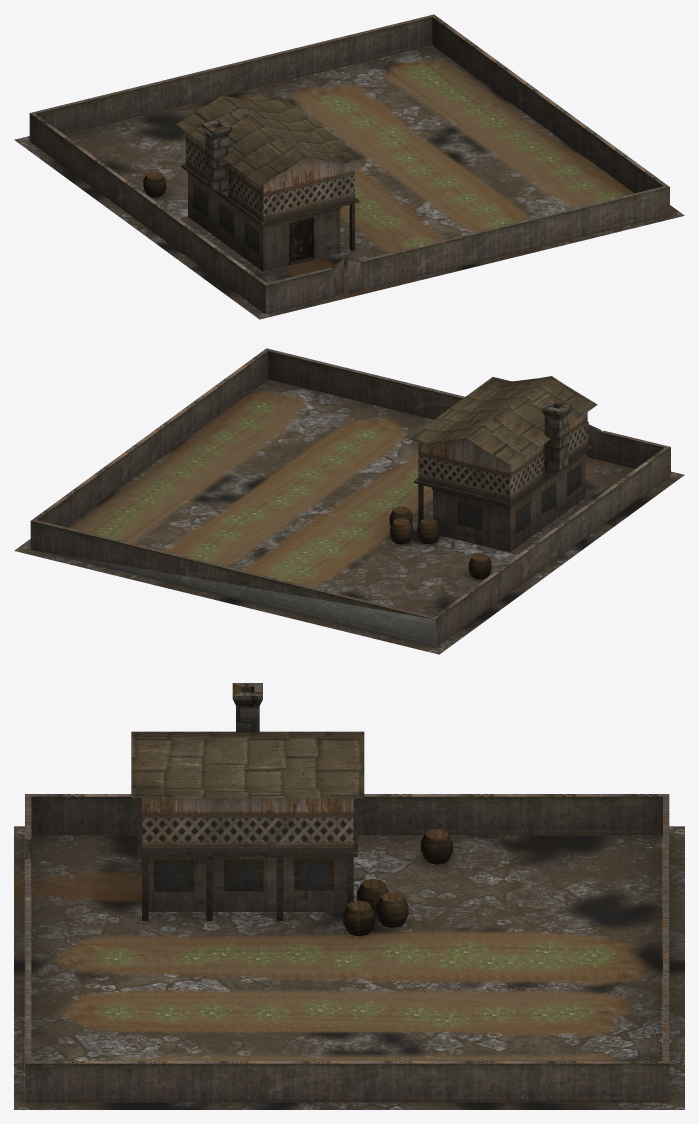
Rendered from Farm.FBX.
The picture shows the model from 3 angles, top to bottom: view 1: azimuth 30°, elevation 25°; view 2: azimuth 150°, elevation 25°; view 3: azimuth 270°, elevation 25°; orthographic projection. The views are drawn at different scales.
Visible parts, largest first — view 1: Farm; view 2: Farm; view 3: Farm.
Part boxes in pixels (x1,y1,x2,y2): Farm: [14, 14, 684, 319]; Farm: [14, 348, 684, 654]; Farm: [14, 683, 684, 1109].
Bounding box in the file's own units: 11.81 × 3.21 × 11.81.
